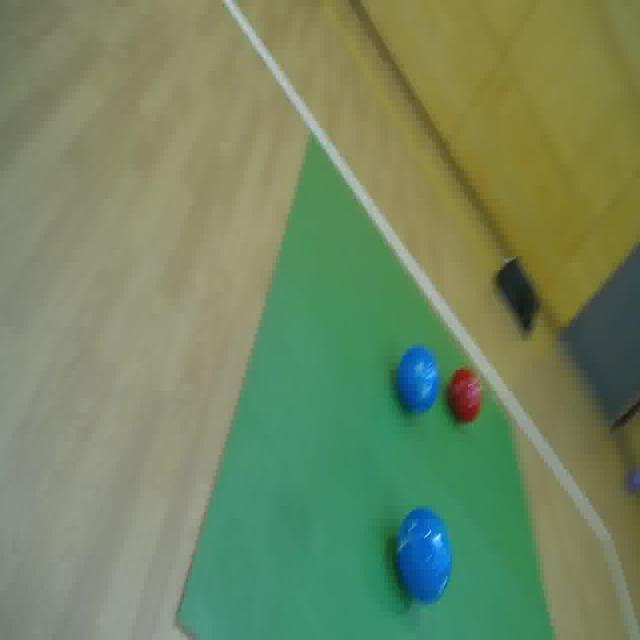blue_ball: (390, 503, 456, 607), (395, 344, 440, 420)
red_ball: (445, 367, 484, 425)
